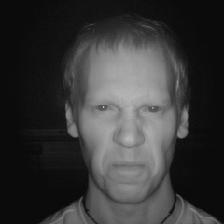sad: (56, 21, 198, 210)
